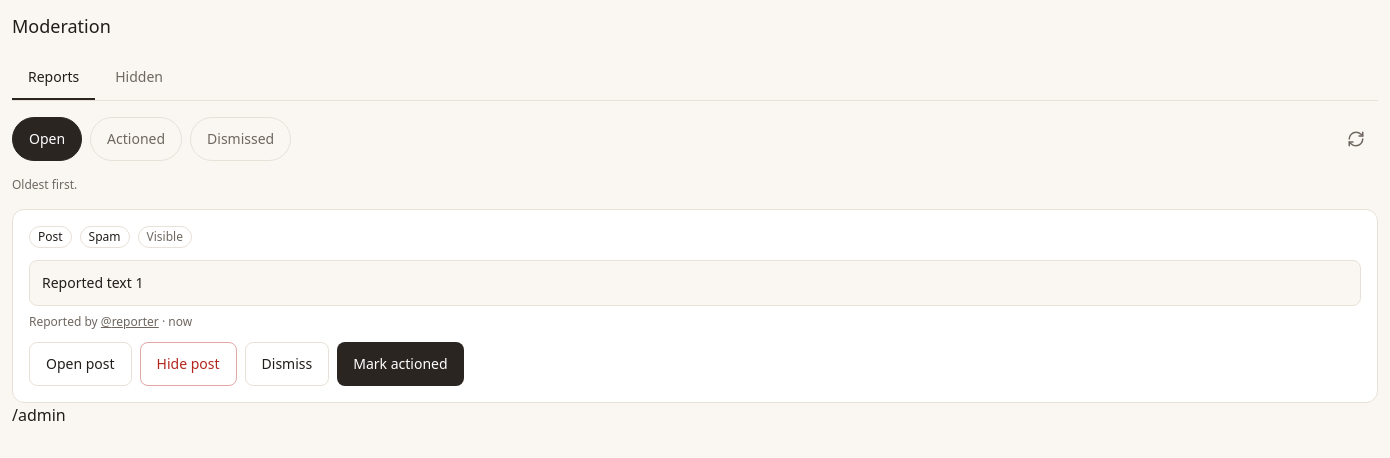
Test case: AdminPage queue › switches to the actioned queue and shows who resolved it
This screenshot has width=1390, height=458.
expect the text "Reported text 1" is shown: met, box [29,260,1361,306]
Click the button "Actioned" at (136, 139), box [90,117,182,161]
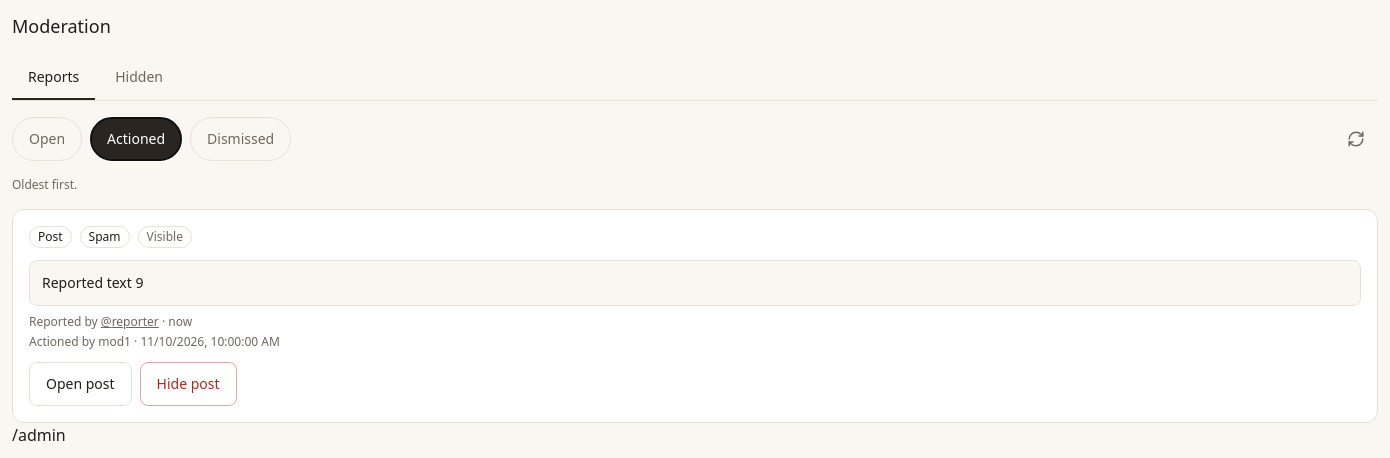
expect the text "Actioned by mod1 · 11/10/2026, 10:00:00 AM" is shown: met, box [29,333,280,350]
expect the button "Mark actioned" is gone: met
